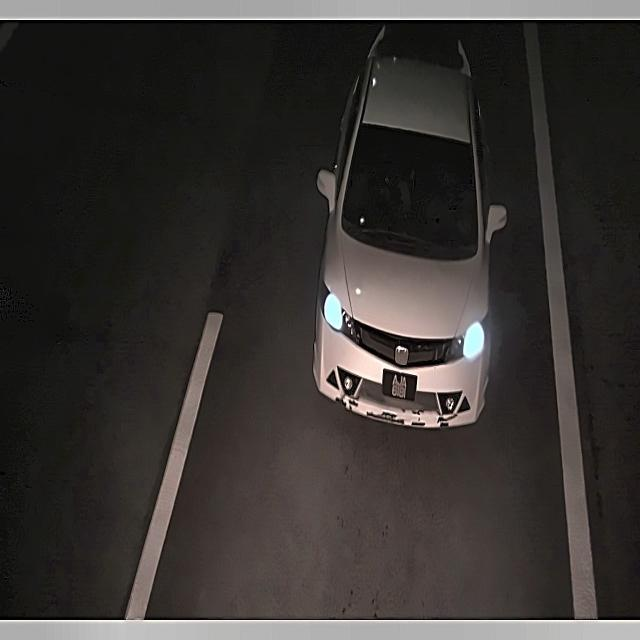car: (380, 365, 421, 406)
